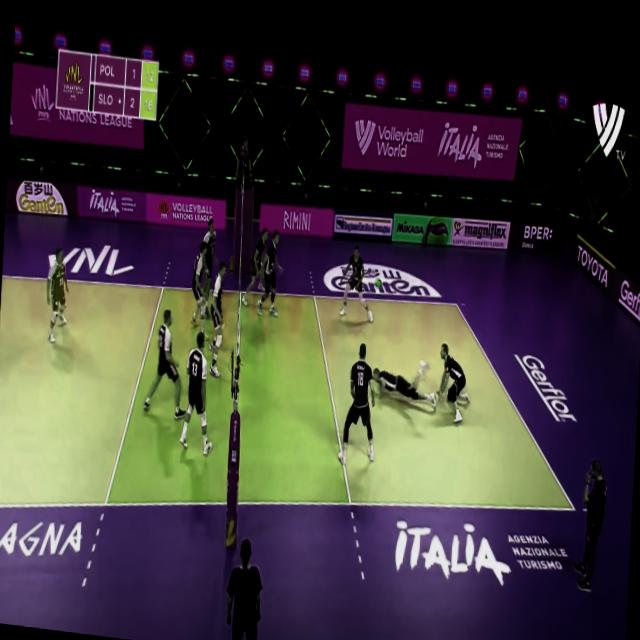player: (338, 334, 381, 461), (144, 303, 191, 417), (182, 325, 218, 450), (369, 346, 438, 402), (434, 334, 473, 420), (338, 237, 377, 318), (44, 247, 70, 348), (243, 220, 269, 306), (258, 224, 282, 316), (191, 235, 212, 336), (210, 253, 227, 376), (200, 214, 218, 311)
